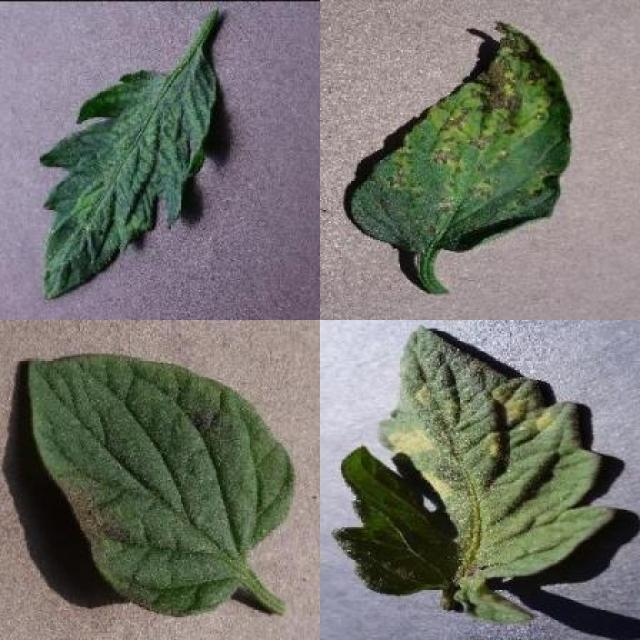Late Blight: (29, 350, 297, 617)
Leaf Mold: (331, 324, 616, 626)
Mosaic Virus: (40, 46, 220, 300)
Septoria: (352, 19, 574, 254)
